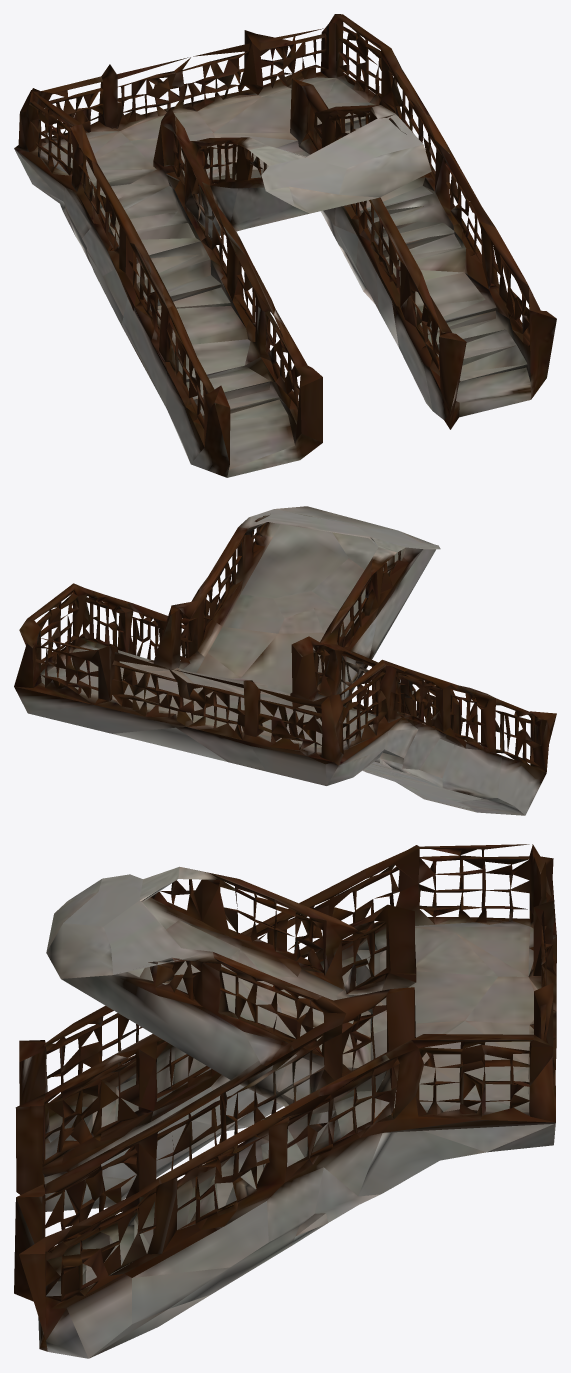
The model's file is tangga_ballram_lod2.glb.
3 renders of one model, top to bottom at view 1: azimuth 30°, elevation 25°; view 2: azimuth 150°, elevation 25°; view 3: azimuth 270°, elevation 25°, orthographic. The views are drawn at different scales.
Parts seen in each view (by area): view 1: tripo_node_c9c6ab6e-4869-40e3-a00f-3fa6b9000a74; view 2: tripo_node_c9c6ab6e-4869-40e3-a00f-3fa6b9000a74; view 3: tripo_node_c9c6ab6e-4869-40e3-a00f-3fa6b9000a74.
Part boxes in pixels (x1=…): tripo_node_c9c6ab6e-4869-40e3-a00f-3fa6b9000a74: x1=14, y1=14, x2=556, y2=477; tripo_node_c9c6ab6e-4869-40e3-a00f-3fa6b9000a74: x1=14, y1=506, x2=556, y2=815; tripo_node_c9c6ab6e-4869-40e3-a00f-3fa6b9000a74: x1=14, y1=844, x2=556, y2=1358.
Bounding box in the file's own units: 0.9332 × 0.6947 × 0.9982.
Materials: 1 (1 with a texture image).
